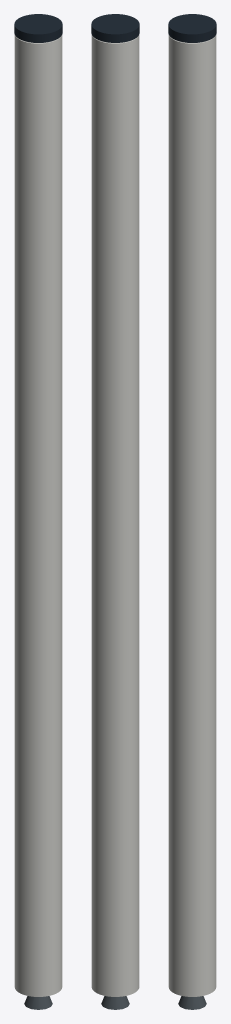
The model's file is blackbrant-stage-2.glb.
3 views of the same model, side by side, from view 1: azimuth 90°, elevation 25°; view 2: azimuth 150°, elevation 25°; view 3: azimuth 270°, elevation 25° (orthographic).
Parts seen in each view (by area): view 1: body-1, interstage-1, engine-1-0; view 2: body-1, interstage-1, engine-1-0; view 3: body-1, interstage-1, engine-1-0.
Boxes of the visible parts, x1,y1,x2,y2 form: body-1: (14, 35, 62, 996); interstage-1: (14, 14, 62, 42); engine-1-0: (24, 996, 52, 1009); body-1: (91, 35, 139, 996); interstage-1: (91, 14, 139, 42); engine-1-0: (101, 996, 129, 1009); body-1: (168, 35, 216, 996); interstage-1: (168, 14, 216, 42); engine-1-0: (178, 996, 206, 1009).
Bounding box in the file's own units: 0.4433 × 9.92 × 0.4433.
